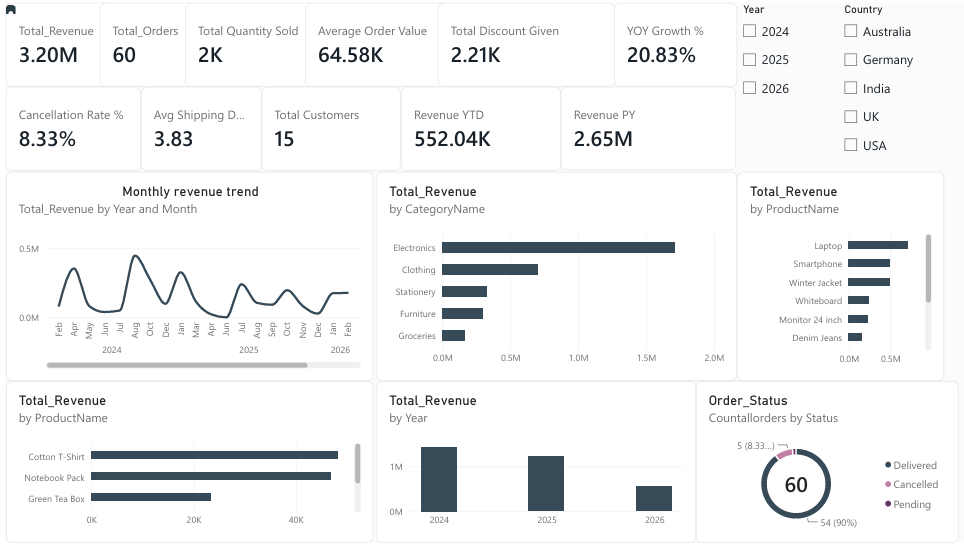

Layout of this report page (visuals, bound fields, positions):
{"tool":"powerbi","page":{"name":"Page 1","canvas":[1280,720],"ordinal":0},"visuals":[{"type":"cardVisual","fields":{"Data":["OrderDetails.Total_Revenue"]},"box":[0,0,180,112.3],"z":0},{"type":"cardVisual","fields":{"Data":["Orders.Total_Orders"]},"box":[125.3,0,174.2,112.3],"z":1000},{"type":"cardVisual","fields":{"Data":["OrderDetails.Total Quantity Sold"]},"box":[239,0,178.6,112.3],"z":2000},{"type":"cardVisual","fields":{"Data":["OrderDetails.Average Order Value"]},"box":[398.9,0,191.5,112.3],"z":3000},{"type":"cardVisual","fields":{"Data":["OrderDetails.Total Discount Given"]},"box":[576,0,236.2,112.3],"z":4000},{"type":"cardVisual","fields":{"Data":["Orders.Cancellation Rate %"]},"box":[0,112.3,180,112.3],"z":5000},{"type":"cardVisual","fields":{"Data":["Orders.Avg Shipping Days"]},"box":[180,112.3,161.3,112.3],"z":6000},{"type":"cardVisual","fields":{"Data":["Customers.Total Customers"]},"box":[341.3,112.3,185.8,112.3],"z":7000},{"type":"cardVisual","fields":{"Data":["OrderDetails.Revenue YTD"]},"box":[527,112.3,213.1,112.3],"z":8000},{"type":"cardVisual","fields":{"Data":["OrderDetails.Revenue PY"]},"box":[739.8,112,233.9,112],"z":9000},{"type":"cardVisual","fields":{"Data":["OrderDetails.YOY Growth %"]},"box":[810.7,0,164.2,112.3],"z":10000},{"type":"lineChart","title":"Monthly revenue trend","fields":{"Category":["Date.Year","Date.Month"],"Y":["OrderDetails.Total_Revenue"]},"box":[0,224.6,489.6,279.4],"z":11000},{"type":"clusteredBarChart","fields":{"Category":["Categories.CategoryName"],"Y":["OrderDetails.Total_Revenue"]},"box":[493.9,224.6,481,279.4],"z":12000},{"type":"clusteredBarChart","fields":{"Category":["Products.ProductName"],"Y":["OrderDetails.Total_Revenue"]},"box":[974.9,224.6,276.5,279.4],"z":13000},{"type":"actionButton","box":[0,0,12.9,14.3],"z":14000},{"type":"clusteredBarChart","fields":{"Category":["Products.ProductName"],"Y":["OrderDetails.Total_Revenue"]},"box":[0,504,489.6,216],"z":15000},{"type":"columnChart","fields":{"Category":["Date.Year Hierarchy.Year","Date.Year Hierarchy.Month","Date.Year Hierarchy.Quarter"],"Y":["OrderDetails.Total_Revenue"]},"box":[493.9,504,426.2,216],"z":16000},{"type":"donutChart","title":"Order_Status","fields":{"Category":["Orders.Status"],"Y":["Orders.Countallorders"]},"box":[920.2,504,349.9,216],"z":17000},{"type":"slicer","fields":{"Values":["Date.Year"]},"box":[975.1,0,134.6,223.9],"z":18000},{"type":"slicer","fields":{"Values":["Customers.Country"]},"box":[1109.8,0,169.9,224.6],"z":19000}]}

Visuals, with their boxes in screenshot pixels (x1, y1, x2, y2), scaled from the page's 1280x720 canvas onto the 964x551 screenshot:
cardVisual - OrderDetails.Total_Revenue: left=0, top=0, right=136, bottom=86
cardVisual - Orders.Total_Orders: left=94, top=0, right=226, bottom=86
cardVisual - OrderDetails.Total Quantity Sold: left=180, top=0, right=315, bottom=86
cardVisual - OrderDetails.Average Order Value: left=300, top=0, right=445, bottom=86
cardVisual - OrderDetails.Total Discount Given: left=434, top=0, right=612, bottom=86
cardVisual - Orders.Cancellation Rate %: left=0, top=86, right=136, bottom=172
cardVisual - Orders.Avg Shipping Days: left=136, top=86, right=257, bottom=172
cardVisual - Customers.Total Customers: left=257, top=86, right=397, bottom=172
cardVisual - OrderDetails.Revenue YTD: left=397, top=86, right=557, bottom=172
cardVisual - OrderDetails.Revenue PY: left=557, top=86, right=733, bottom=171
cardVisual - OrderDetails.YOY Growth %: left=611, top=0, right=734, bottom=86
"Monthly revenue trend" lineChart: left=0, top=172, right=369, bottom=386
clusteredBarChart - Categories.CategoryName x OrderDetails.Total_Revenue: left=372, top=172, right=734, bottom=386
clusteredBarChart - Products.ProductName x OrderDetails.Total_Revenue: left=734, top=172, right=942, bottom=386
actionButton: left=0, top=0, right=10, bottom=11
clusteredBarChart - Products.ProductName x OrderDetails.Total_Revenue: left=0, top=386, right=369, bottom=550
columnChart - Date.Year Hierarchy.Year x Date.Year Hierarchy.Month: left=372, top=386, right=693, bottom=550
"Order_Status" donutChart: left=693, top=386, right=957, bottom=550
slicer - Date.Year: left=734, top=0, right=836, bottom=171
slicer - Customers.Country: left=836, top=0, right=963, bottom=172
